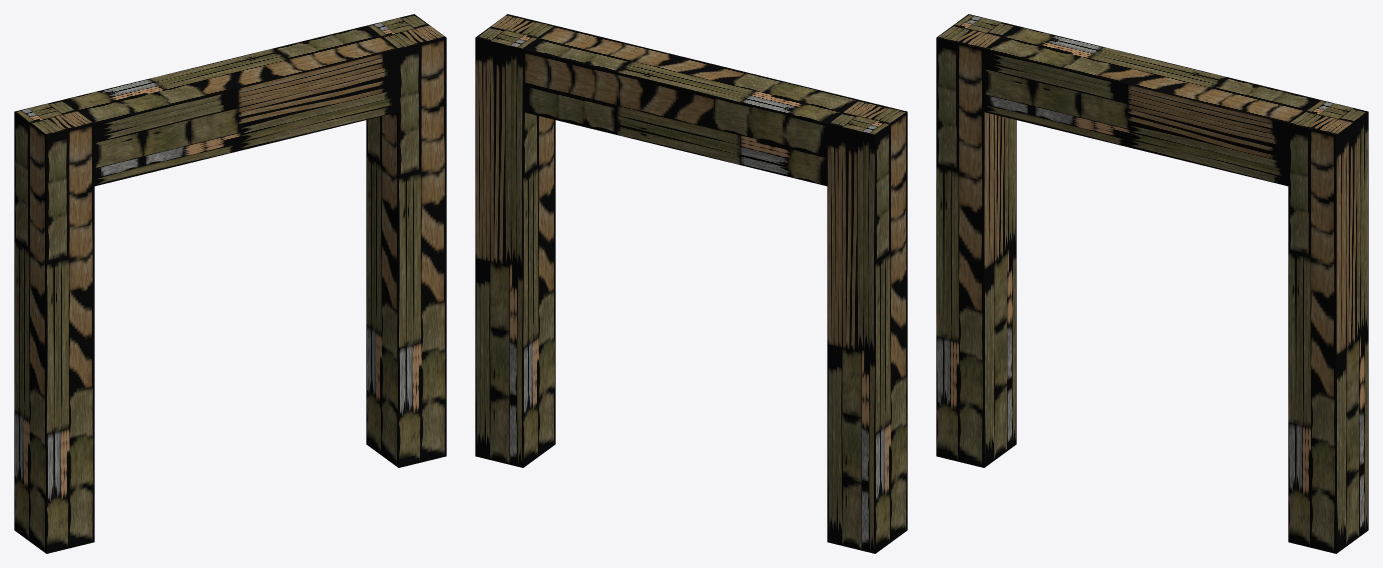
File: door.obj
3 views of the same model, side by side, from view 1: azimuth 30°, elevation 25°; view 2: azimuth 150°, elevation 25°; view 3: azimuth 330°, elevation 25° (orthographic).
Parts seen in each view (by area): view 1: door; view 2: door; view 3: door.
Part boxes in pixels (x1,y1,x2,y2): door: (14, 14, 446, 553); door: (475, 14, 907, 553); door: (936, 14, 1368, 553).
Size of the model in its own units: 1 by 1 by 0.14.
Materials: 1 (1 with a texture image).
